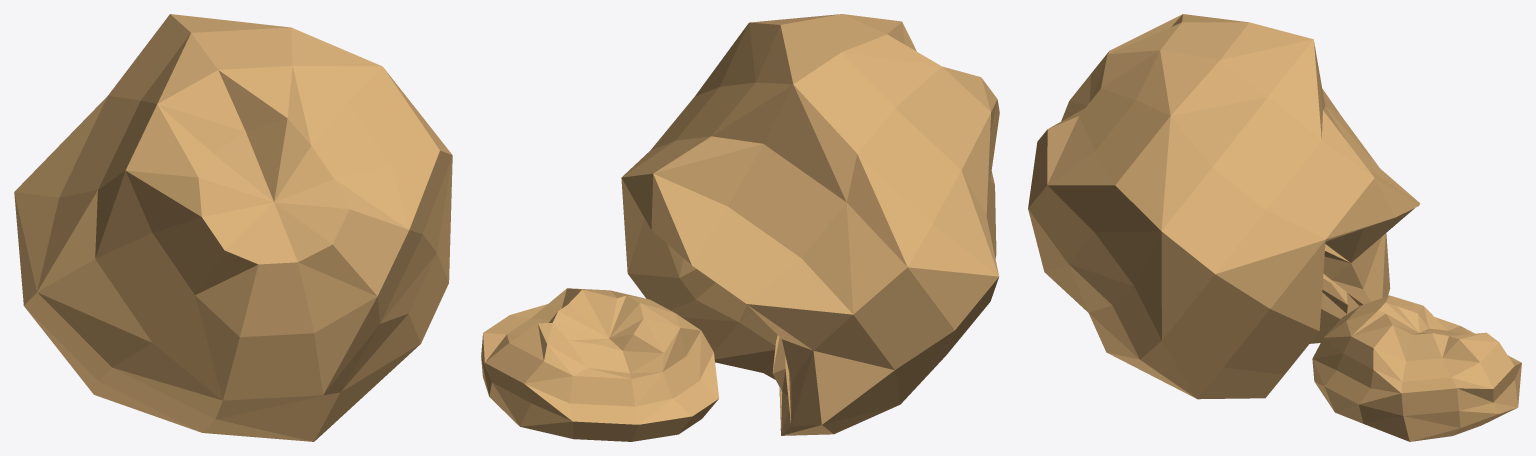
3 views of the same model, side by side, from view 1: azimuth 30°, elevation 25°; view 2: azimuth 150°, elevation 25°; view 3: azimuth 270°, elevation 25° (orthographic). The views are drawn at different scales.
Parts seen in each view (by area): view 1: node_MeshObject-1176498496-PolyPaper18; view 2: node_MeshObject-1176498496-PolyPaper18; view 3: node_MeshObject-1176498496-PolyPaper18.
Boxes of the visible parts, x1=… form: node_MeshObject-1176498496-PolyPaper18: x1=14, y1=14, x2=452, y2=441; node_MeshObject-1176498496-PolyPaper18: x1=481, y1=14, x2=999, y2=441; node_MeshObject-1176498496-PolyPaper18: x1=1028, y1=14, x2=1521, y2=441.
Bounding box in the file's own units: 4.34 × 3.5 × 4.83.
